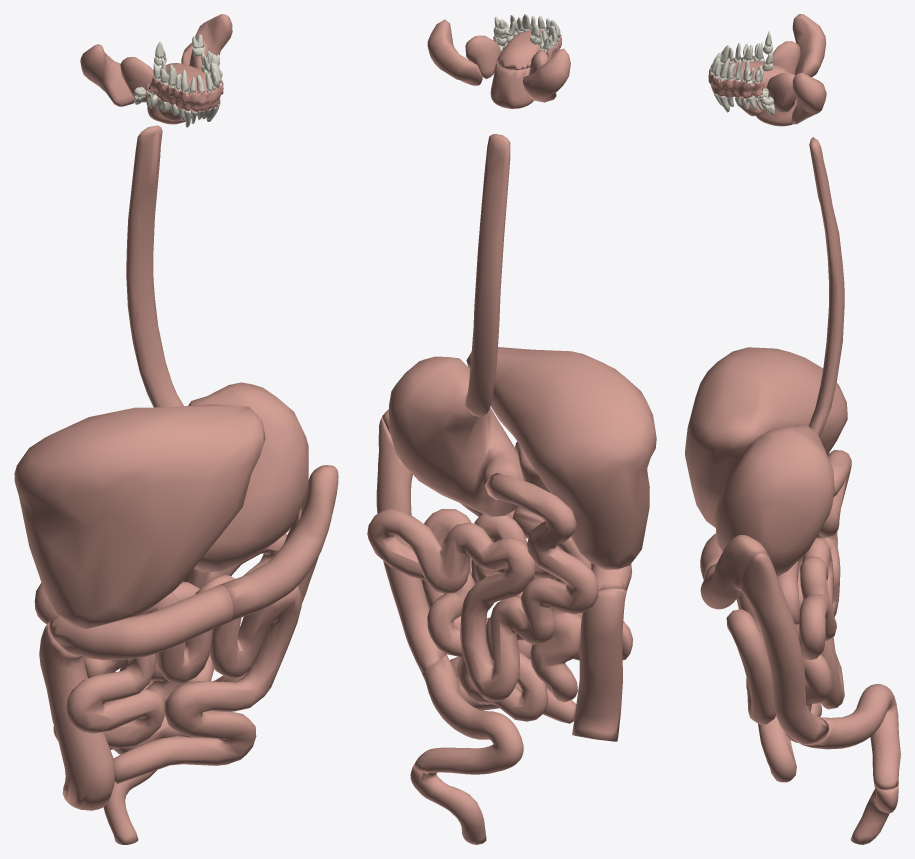
Rendered from pediatric_adolescent_male.digestive.LOD1.glb.
The picture shows the model from 3 angles, left to right: view 1: azimuth 30°, elevation 25°; view 2: azimuth 150°, elevation 25°; view 3: azimuth 270°, elevation 25°; orthographic projection. The views are drawn at different scales.
Visible parts, largest first — view 1: PEDIATRIC.ADOLESCENT.MALE.DIGESTIVE.LIVER, PEDIATRIC.ADOLESCENT.MALE.DIGESTIVE.SMALL_INTESTINE_WALL, PEDIATRIC.ADOLESCENT.MALE.DIGESTIVE.STOMACH_WALL, PEDIATRIC.ADOLESCENT.MALE.DIGESTIVE.OESOPHAGUS_WALL, PEDIATRIC.ADOLESCENT.MALE.DIGESTIVE.TRANSVERSE_COLON_WALL.R, PEDIATRIC.ADOLESCENT.MALE.DIGESTIVE.ASCENDING_COLON_WALL, PEDIATRIC.ADOLESCENT.MALE.DIGESTIVE.TRANSVERSE_COLON_WALL.L, PEDIATRIC.ADOLESCENT.MALE.DIGESTIVE.SALIVARY_GLANDS.R, PEDIATRIC.ADOLESCENT.MALE.DIGESTIVE.PERMANENT_CEMENTUM, PEDIATRIC.ADOLESCENT.MALE.DIGESTIVE.RECTUM_WALL, PEDIATRIC.ADOLESCENT.MALE.DIGESTIVE.ORAL_MUCOSA_LIP_AND_CHEE, PEDIATRIC.ADOLESCENT.MALE.DIGESTIVE.SALIVARY_GLANDS.L; view 2: PEDIATRIC.ADOLESCENT.MALE.DIGESTIVE.SMALL_INTESTINE_WALL, PEDIATRIC.ADOLESCENT.MALE.DIGESTIVE.LIVER, PEDIATRIC.ADOLESCENT.MALE.DIGESTIVE.STOMACH_WALL, PEDIATRIC.ADOLESCENT.MALE.DIGESTIVE.OESOPHAGUS_WALL, PEDIATRIC.ADOLESCENT.MALE.DIGESTIVE.ASCENDING_COLON_WALL, PEDIATRIC.ADOLESCENT.MALE.DIGESTIVE.SIGMOID_COLON_WALL, PEDIATRIC.ADOLESCENT.MALE.DIGESTIVE.DESCENDING_COLON_WALL, PEDIATRIC.ADOLESCENT.MALE.DIGESTIVE.SALIVARY_GLANDS.L, PEDIATRIC.ADOLESCENT.MALE.DIGESTIVE.RECTUM_WALL, PEDIATRIC.ADOLESCENT.MALE.DIGESTIVE.SALIVARY_GLANDS.R, PEDIATRIC.ADOLESCENT.MALE.DIGESTIVE.TONGUE_LOWER, PEDIATRIC.ADOLESCENT.MALE.DIGESTIVE.TRANSVERSE_COLON_WALL.R (+2 smaller); view 3: PEDIATRIC.ADOLESCENT.MALE.DIGESTIVE.LIVER, PEDIATRIC.ADOLESCENT.MALE.DIGESTIVE.SMALL_INTESTINE_WALL, PEDIATRIC.ADOLESCENT.MALE.DIGESTIVE.STOMACH_WALL, PEDIATRIC.ADOLESCENT.MALE.DIGESTIVE.DESCENDING_COLON_WALL, PEDIATRIC.ADOLESCENT.MALE.DIGESTIVE.SIGMOID_COLON_WALL, PEDIATRIC.ADOLESCENT.MALE.DIGESTIVE.OESOPHAGUS_WALL, PEDIATRIC.ADOLESCENT.MALE.DIGESTIVE.TRANSVERSE_COLON_WALL.L, PEDIATRIC.ADOLESCENT.MALE.DIGESTIVE.SALIVARY_GLANDS.L, PEDIATRIC.ADOLESCENT.MALE.DIGESTIVE.SALIVARY_GLANDS.R, PEDIATRIC.ADOLESCENT.MALE.DIGESTIVE.PERMANENT_CEMENTUM, PEDIATRIC.ADOLESCENT.MALE.DIGESTIVE.RECTUM_WALL, PEDIATRIC.ADOLESCENT.MALE.DIGESTIVE.ORAL_MUCOSA_LIP_AND_CHEE (+3 smaller).
Part boxes in pixels (x1,y1,x2,y2): PEDIATRIC.ADOLESCENT.MALE.DIGESTIVE.LIVER: (14, 404, 265, 628); PEDIATRIC.ADOLESCENT.MALE.DIGESTIVE.SMALL_INTESTINE_WALL: (34, 533, 301, 784); PEDIATRIC.ADOLESCENT.MALE.DIGESTIVE.STOMACH_WALL: (188, 382, 308, 572); PEDIATRIC.ADOLESCENT.MALE.DIGESTIVE.OESOPHAGUS_WALL: (126, 125, 183, 407); PEDIATRIC.ADOLESCENT.MALE.DIGESTIVE.TRANSVERSE_COLON_WALL.R: (49, 585, 233, 659); PEDIATRIC.ADOLESCENT.MALE.DIGESTIVE.ASCENDING_COLON_WALL: (39, 621, 115, 810); PEDIATRIC.ADOLESCENT.MALE.DIGESTIVE.TRANSVERSE_COLON_WALL.L: (219, 465, 338, 621); PEDIATRIC.ADOLESCENT.MALE.DIGESTIVE.SALIVARY_GLANDS.R: (80, 44, 191, 121); PEDIATRIC.ADOLESCENT.MALE.DIGESTIVE.PERMANENT_CEMENTUM: (134, 34, 221, 127); PEDIATRIC.ADOLESCENT.MALE.DIGESTIVE.RECTUM_WALL: (103, 770, 156, 844); PEDIATRIC.ADOLESCENT.MALE.DIGESTIVE.ORAL_MUCOSA_LIP_AND_CHEE: (147, 71, 223, 112); PEDIATRIC.ADOLESCENT.MALE.DIGESTIVE.SALIVARY_GLANDS.L: (181, 14, 232, 115); PEDIATRIC.ADOLESCENT.MALE.DIGESTIVE.SMALL_INTESTINE_WALL: (367, 473, 632, 723); PEDIATRIC.ADOLESCENT.MALE.DIGESTIVE.LIVER: (466, 347, 656, 569); PEDIATRIC.ADOLESCENT.MALE.DIGESTIVE.STOMACH_WALL: (389, 356, 523, 516); PEDIATRIC.ADOLESCENT.MALE.DIGESTIVE.OESOPHAGUS_WALL: (465, 134, 510, 416); PEDIATRIC.ADOLESCENT.MALE.DIGESTIVE.ASCENDING_COLON_WALL: (572, 588, 626, 741); PEDIATRIC.ADOLESCENT.MALE.DIGESTIVE.SIGMOID_COLON_WALL: (414, 655, 523, 774); PEDIATRIC.ADOLESCENT.MALE.DIGESTIVE.DESCENDING_COLON_WALL: (376, 416, 446, 673); PEDIATRIC.ADOLESCENT.MALE.DIGESTIVE.SALIVARY_GLANDS.L: (427, 19, 500, 85); PEDIATRIC.ADOLESCENT.MALE.DIGESTIVE.RECTUM_WALL: (410, 765, 486, 844); PEDIATRIC.ADOLESCENT.MALE.DIGESTIVE.SALIVARY_GLANDS.R: (522, 48, 570, 102); PEDIATRIC.ADOLESCENT.MALE.DIGESTIVE.TONGUE_LOWER: (490, 63, 533, 108); PEDIATRIC.ADOLESCENT.MALE.DIGESTIVE.TRANSVERSE_COLON_WALL.R: (512, 506, 632, 590); PEDIATRIC.ADOLESCENT.MALE.DIGESTIVE.LIVER: (685, 347, 847, 527); PEDIATRIC.ADOLESCENT.MALE.DIGESTIVE.SMALL_INTESTINE_WALL: (726, 450, 851, 782); PEDIATRIC.ADOLESCENT.MALE.DIGESTIVE.STOMACH_WALL: (715, 425, 834, 576); PEDIATRIC.ADOLESCENT.MALE.DIGESTIVE.DESCENDING_COLON_WALL: (738, 552, 828, 745); PEDIATRIC.ADOLESCENT.MALE.DIGESTIVE.SIGMOID_COLON_WALL: (801, 684, 900, 789); PEDIATRIC.ADOLESCENT.MALE.DIGESTIVE.OESOPHAGUS_WALL: (809, 137, 844, 436); PEDIATRIC.ADOLESCENT.MALE.DIGESTIVE.TRANSVERSE_COLON_WALL.L: (700, 535, 768, 609); PEDIATRIC.ADOLESCENT.MALE.DIGESTIVE.SALIVARY_GLANDS.L: (735, 72, 826, 124); PEDIATRIC.ADOLESCENT.MALE.DIGESTIVE.SALIVARY_GLANDS.R: (772, 14, 826, 77); PEDIATRIC.ADOLESCENT.MALE.DIGESTIVE.PERMANENT_CEMENTUM: (710, 31, 774, 115); PEDIATRIC.ADOLESCENT.MALE.DIGESTIVE.RECTUM_WALL: (850, 784, 898, 844); PEDIATRIC.ADOLESCENT.MALE.DIGESTIVE.ORAL_MUCOSA_LIP_AND_CHEE: (708, 55, 763, 98).
Size of the model in its own units: 0.2736 by 0.7318 by 0.1784.
